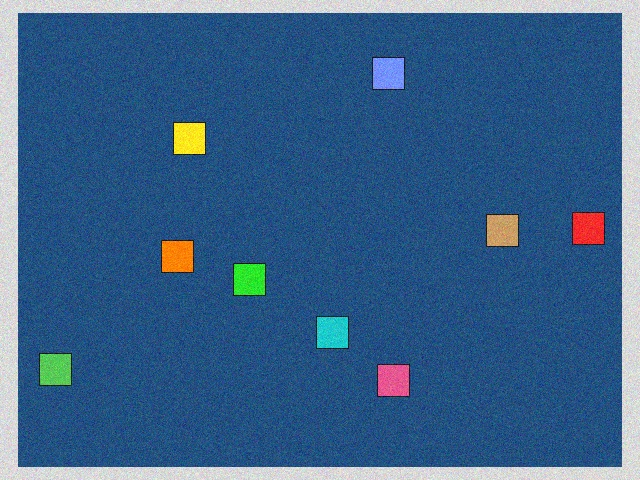block: (40, 347, 85, 385), (559, 213, 605, 245), (174, 122, 212, 159), (369, 58, 404, 98), (374, 358, 409, 397), (477, 215, 518, 247), (162, 241, 201, 273), (317, 312, 349, 348), (234, 263, 268, 296)
